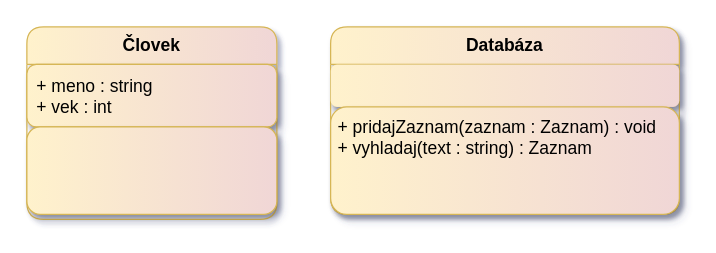
This 716x253 diagram has some shape labels left out. The centre of each missing label's shape, as x and y in pixels:
+ chodDoPrace() : void + pozdrav(koho : string) : void + mrkni() : void: [152,172]
+ heslo : string: [505,87]
